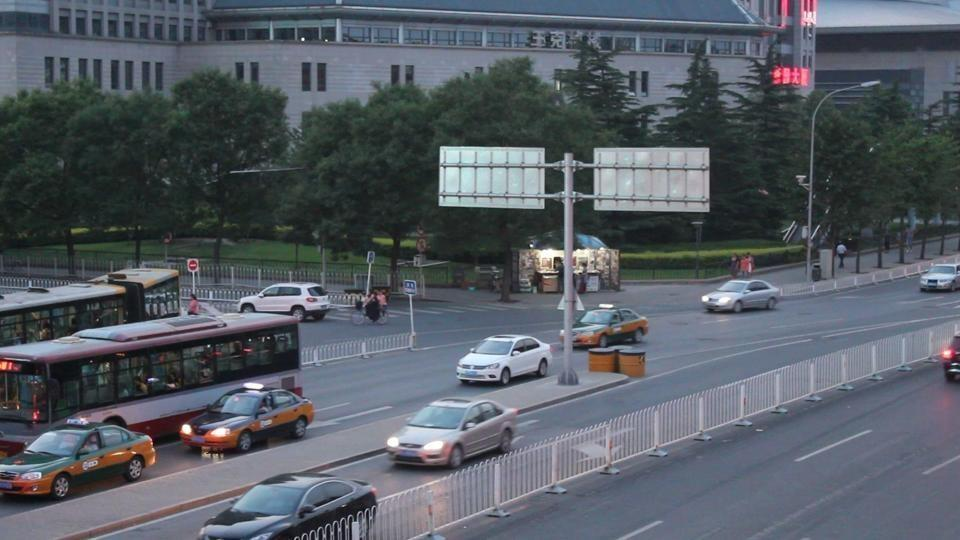car: (197, 472, 379, 540), (0, 423, 157, 498), (386, 397, 519, 469), (177, 386, 317, 454), (455, 334, 552, 386), (555, 306, 649, 351), (237, 283, 331, 320), (702, 277, 781, 314), (0, 422, 34, 460), (919, 262, 960, 293), (942, 332, 960, 383)
